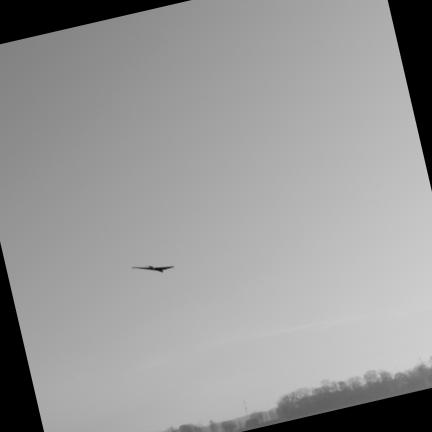Shahed: (132, 265, 175, 273)
